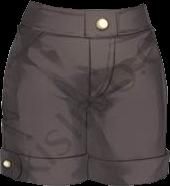Hemline: (0, 172, 89, 185), (88, 173, 169, 185)
Pantleg: (0, 1, 89, 185), (85, 3, 169, 184)
Waistline: (19, 23, 151, 38), (29, 0, 144, 11)
